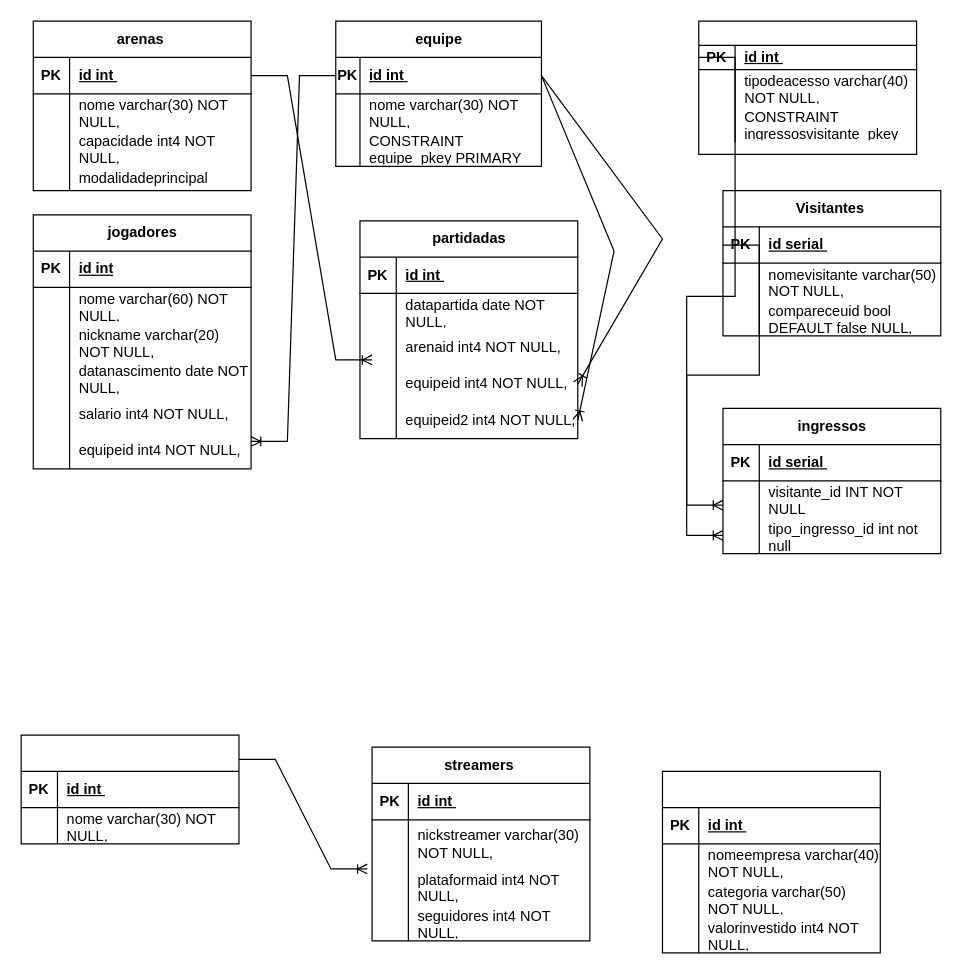
Image size: 962x974. Some labels were removed from this diagram. The shapes that lost their labels are listed below. From the top down, each one's box as (x1, y1, x2, y2) in pixels, then its label:
(698, 20, 917, 154): tipo ingressos
(20, 734, 239, 844): plataforma
(661, 770, 880, 953): Patrocinadores
